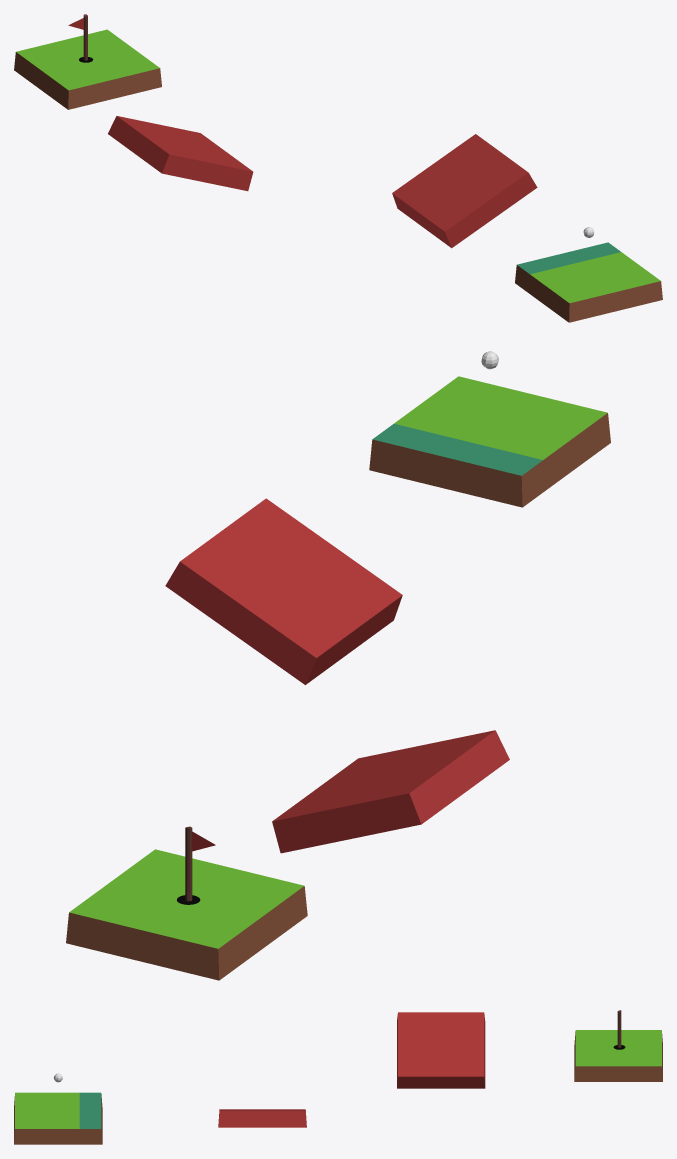
The model's file is level8.glb.
The picture shows the model from 3 angles, top to bottom: view 1: azimuth 30°, elevation 25°; view 2: azimuth 150°, elevation 25°; view 3: azimuth 270°, elevation 25°; orthographic projection. The views are drawn at different scales.
Visible parts, largest first — view 1: bouncepad, basic-moveable.001, basic-fixed.001, bouncepad.001; view 2: bouncepad, basic-moveable.001, basic-fixed.001, bouncepad.001, flag; view 3: bouncepad.001, basic-moveable.001, basic-fixed.001, bouncepad, flag.
Boxes of the visible parts, bbox=[...] form: bouncepad: bbox=[392, 134, 537, 248]; basic-moveable.001: bbox=[515, 242, 662, 322]; basic-fixed.001: bbox=[14, 29, 161, 109]; bouncepad.001: bbox=[108, 116, 253, 191]; bouncepad: bbox=[165, 498, 402, 684]; basic-moveable.001: bbox=[369, 376, 610, 507]; basic-fixed.001: bbox=[66, 849, 307, 980]; bouncepad.001: bbox=[272, 730, 509, 853]; flag: bbox=[177, 826, 215, 904]; bouncepad.001: bbox=[397, 1012, 485, 1088]; basic-moveable.001: bbox=[14, 1092, 102, 1144]; basic-fixed.001: bbox=[574, 1030, 662, 1081]; bouncepad: bbox=[218, 1109, 306, 1127]; flag: bbox=[613, 1010, 625, 1049].
Bounding box in the file's own units: 5.68 × 1.69 × 14.67.
4 materials, 4 textured.
